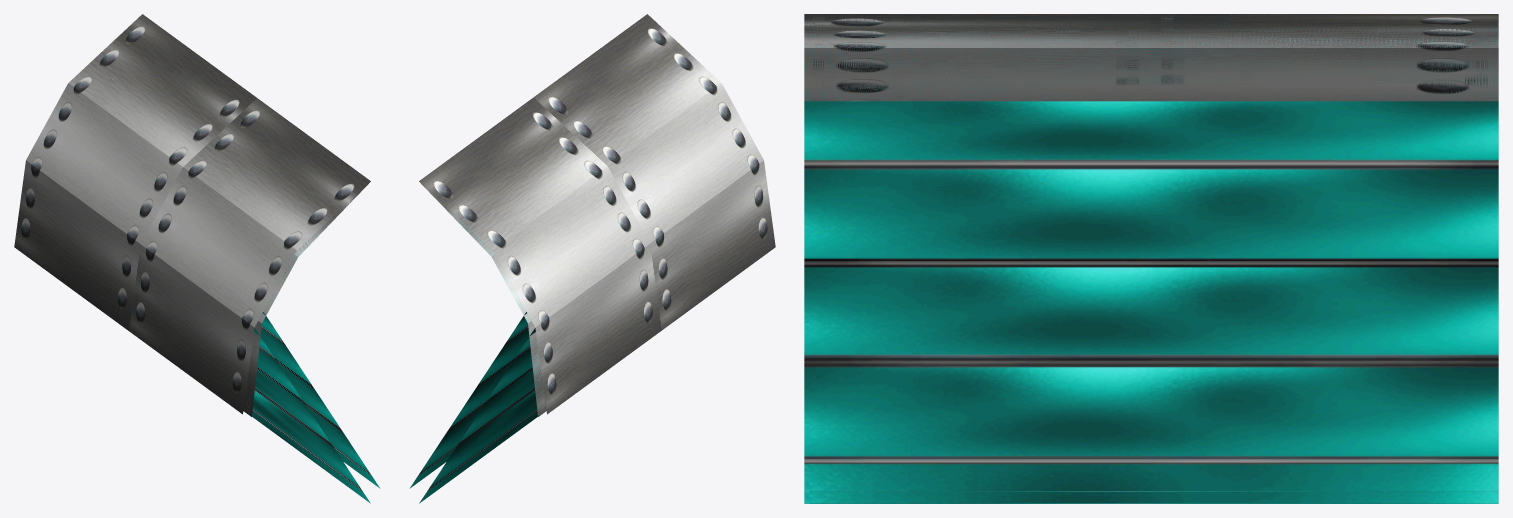
The model's file is W_A2_ff_Ministerium2_2515.glb.
3 views of the same model, side by side, from view 1: azimuth 30°, elevation 25°; view 2: azimuth 150°, elevation 25°; view 3: azimuth 270°, elevation 25° (orthographic). The views are drawn at different scales.
Parts seen in each view (by area): view 1: pPlaneShape11, pPlaneShape12, pPlaneShape15, pPlaneShape13; view 2: pPlaneShape11, pPlaneShape12, pPlaneShape15, pPlaneShape13, pPlaneShape14; view 3: pPlaneShape15, pPlaneShape13, pPlaneShape14, pPlaneShape12.
Boxes of the visible parts, x1,y1,x2,y2 form: pPlaneShape11: [14, 14, 370, 414]; pPlaneShape12: [252, 328, 370, 503]; pPlaneShape15: [260, 312, 380, 488]; pPlaneShape13: [243, 184, 368, 416]; pPlaneShape11: [419, 14, 775, 414]; pPlaneShape12: [419, 328, 537, 503]; pPlaneShape15: [409, 312, 529, 488]; pPlaneShape13: [421, 184, 546, 416]; pPlaneShape14: [441, 203, 546, 416]; pPlaneShape15: [804, 101, 1498, 491]; pPlaneShape13: [804, 14, 1498, 101]; pPlaneShape14: [804, 14, 1498, 101]; pPlaneShape12: [804, 492, 1498, 503].
Size of the model in its own units: 0.174 by 0.3891 by 0.5.
5 materials, 5 textured.
